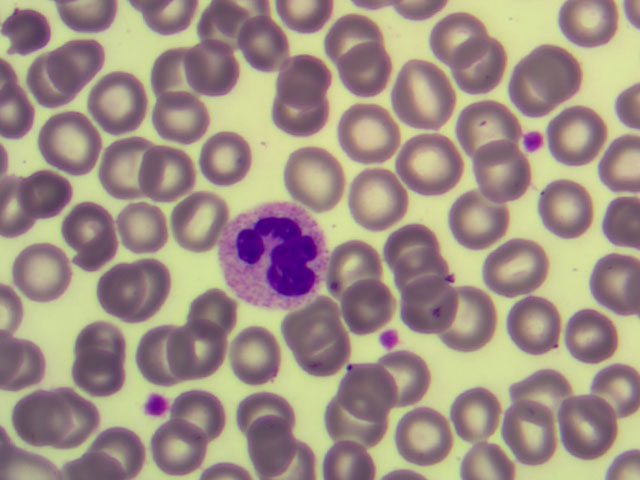Platelets: (139, 391, 169, 418), (378, 328, 402, 349), (521, 130, 544, 150)
RBC: (87, 427, 141, 480), (316, 427, 370, 480), (464, 427, 518, 480), (55, 40, 109, 92), (23, 45, 77, 97), (44, 121, 98, 173), (86, 77, 140, 129), (147, 89, 201, 141), (142, 45, 196, 97), (185, 39, 239, 91), (197, 6, 251, 58), (235, 15, 289, 67), (266, 45, 320, 97), (271, 86, 325, 138), (320, 9, 374, 61), (343, 45, 397, 97), (390, 66, 444, 118), (432, 8, 486, 60), (458, 35, 512, 87), (499, 67, 553, 119), (522, 47, 576, 99), (551, 110, 605, 162), (476, 145, 530, 197), (461, 107, 515, 159), (400, 134, 454, 186), (352, 176, 406, 228), (345, 103, 399, 155), (287, 144, 341, 196), (204, 132, 258, 184), (171, 197, 225, 249), (140, 152, 194, 204), (109, 142, 163, 194), (58, 196, 112, 248), (22, 243, 76, 295), (25, 170, 79, 222), (114, 195, 168, 247), (106, 264, 160, 316), (129, 257, 183, 309), (73, 309, 127, 361), (64, 357, 118, 409), (50, 397, 104, 449), (19, 396, 73, 448), (155, 424, 209, 476), (178, 383, 232, 435), (137, 328, 191, 380), (167, 322, 221, 374), (196, 280, 250, 332), (218, 327, 272, 379), (240, 382, 294, 434), (248, 420, 302, 472), (324, 394, 378, 446), (346, 360, 400, 412), (374, 349, 428, 401), (307, 331, 361, 383), (290, 302, 344, 354), (336, 281, 390, 333), (335, 237, 389, 289), (385, 212, 439, 264), (396, 233, 450, 285), (403, 279, 457, 331), (436, 297, 490, 349), (399, 403, 453, 455), (441, 388, 495, 440), (498, 411, 552, 463), (513, 370, 567, 422), (559, 404, 613, 456), (586, 364, 640, 416), (565, 306, 619, 358), (518, 304, 572, 356), (487, 243, 541, 295), (449, 191, 503, 243), (536, 185, 590, 237), (586, 137, 640, 189), (586, 264, 640, 316), (559, 1, 613, 52)
WBC: (222, 200, 334, 308)
